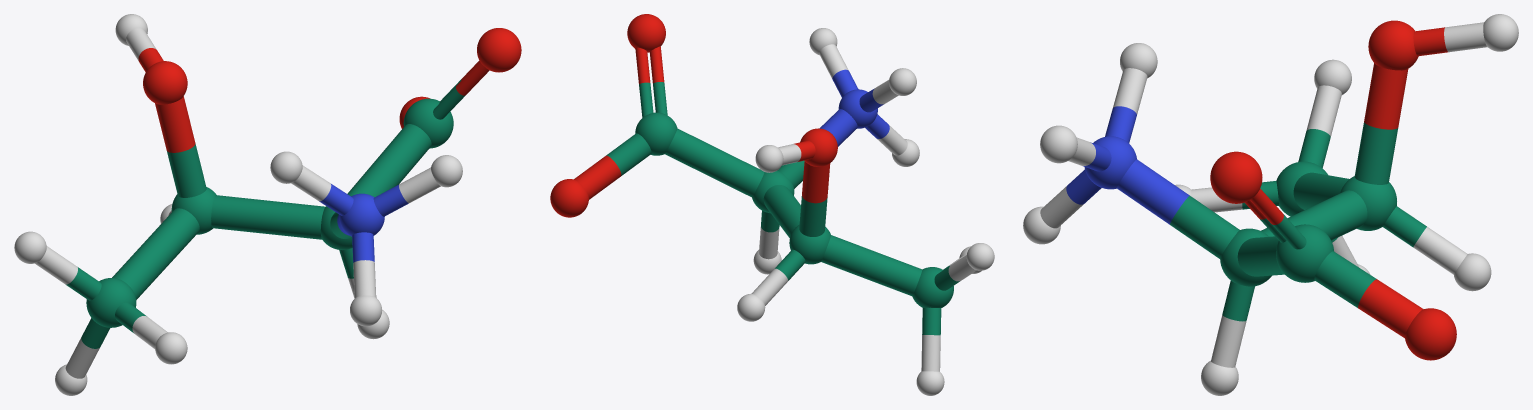
The model's file is THR.PDB.glb.
3 views of the same model, side by side, from view 1: azimuth 30°, elevation 25°; view 2: azimuth 150°, elevation 25°; view 3: azimuth 270°, elevation 25° (orthographic). The views are drawn at different scales.
Size of the model in its own units: 5.49 by 3.48 by 4.33.
